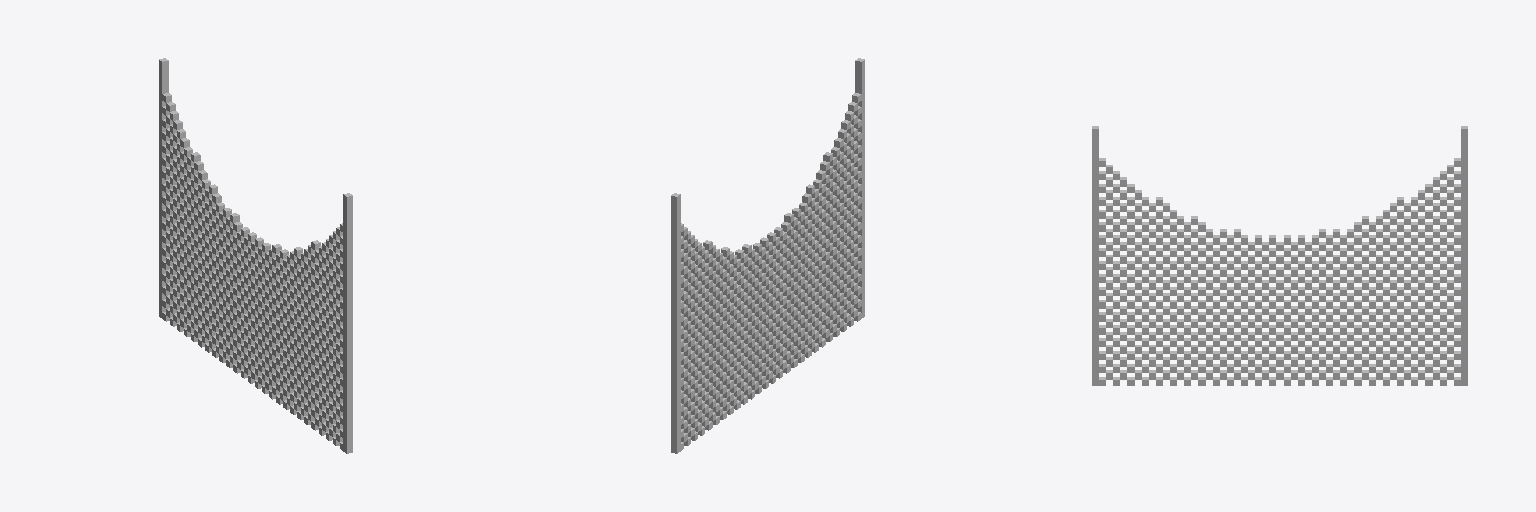
The model's file is Barrière sécurité.obj.
3 renders of one model, left to right at view 1: azimuth 30°, elevation 25°; view 2: azimuth 150°, elevation 25°; view 3: azimuth 270°, elevation 25°, orthographic.
Bounding box in the file's own units: 1 × 40 × 53.